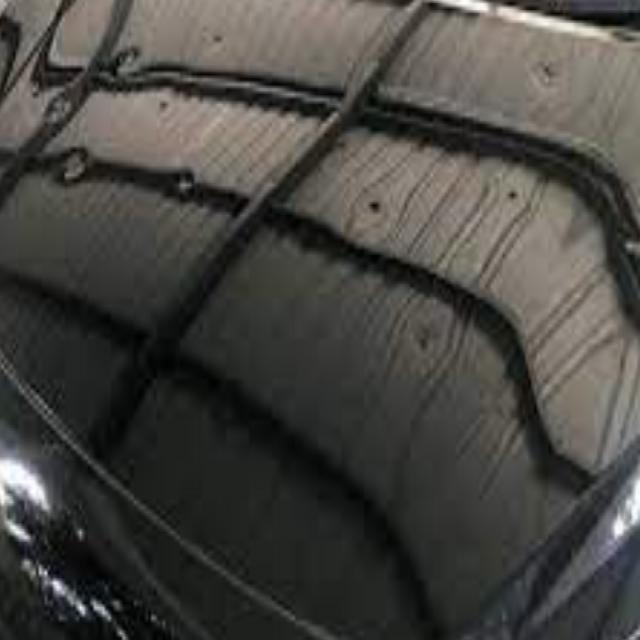dents: (101, 11, 152, 89), (171, 141, 212, 230), (520, 30, 576, 89), (357, 180, 399, 243), (64, 126, 96, 203), (402, 306, 444, 364), (501, 176, 534, 240), (209, 0, 234, 75), (153, 96, 175, 128)
